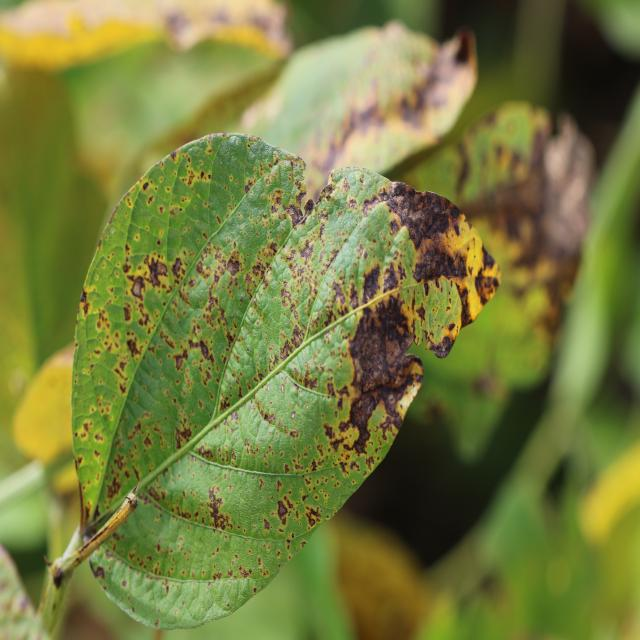Bacterial_Blight: (473, 181, 587, 296), (399, 191, 478, 286), (352, 299, 414, 412), (350, 70, 424, 140), (122, 248, 174, 326), (285, 352, 339, 394), (157, 490, 197, 525), (451, 25, 476, 75), (163, 8, 192, 43), (147, 536, 182, 565), (206, 492, 230, 532), (361, 262, 383, 302), (474, 372, 501, 399), (74, 471, 86, 527), (195, 339, 214, 366), (105, 473, 122, 503), (330, 279, 348, 307), (286, 203, 305, 228), (174, 424, 193, 448), (304, 504, 321, 527), (224, 255, 241, 276), (317, 184, 334, 205), (51, 563, 64, 589), (276, 499, 289, 522), (291, 325, 304, 347), (79, 289, 89, 314), (123, 302, 132, 322), (238, 565, 251, 578), (94, 565, 105, 580), (92, 503, 101, 521), (289, 428, 299, 439), (263, 518, 271, 530), (258, 478, 265, 491), (267, 413, 275, 424), (276, 480, 283, 492), (142, 181, 149, 191), (147, 195, 154, 205), (285, 539, 291, 550)
Soybean: (42, 135, 499, 628)
